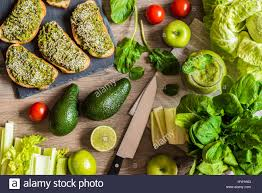aguacate: (44, 82, 84, 141)
